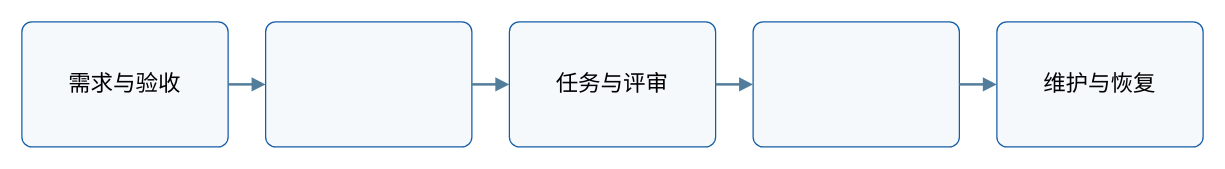
Image size: 1225x169. Some labels were removed from this diagram. Here are the shapes that lost their labels. From the top down, the centre of each, then its label:
At (x=368, y=84): "模块与接口".
At (x=855, y=84): "检查与发布".
